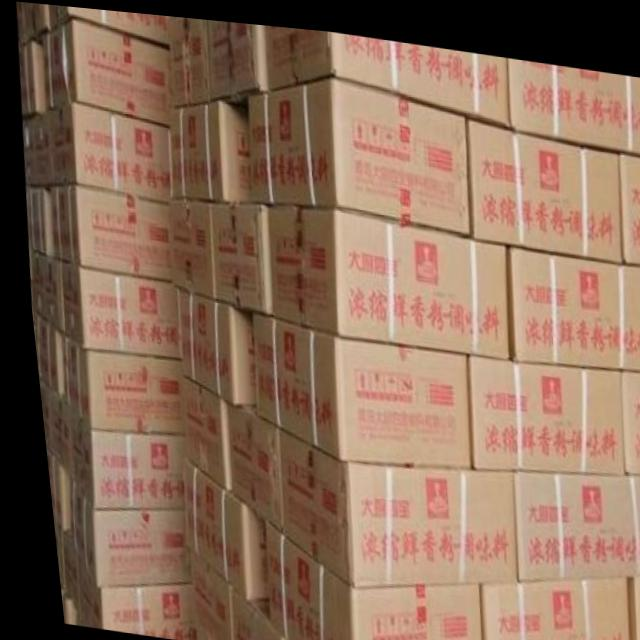box: (269, 424, 506, 580), (264, 201, 504, 350), (245, 71, 467, 226), (245, 309, 462, 460), (253, 513, 469, 640), (266, 20, 508, 117), (467, 110, 618, 254), (460, 346, 616, 466), (503, 237, 640, 359), (506, 461, 640, 573), (42, 15, 166, 123), (60, 474, 179, 586), (506, 50, 640, 142), (46, 101, 167, 199), (174, 457, 255, 599), (47, 184, 166, 278), (56, 337, 174, 430), (55, 264, 174, 356), (468, 567, 617, 640), (64, 415, 179, 507), (170, 286, 248, 405), (165, 97, 250, 197), (206, 197, 268, 310), (220, 404, 273, 526), (173, 373, 221, 488), (48, 4, 169, 45), (207, 16, 267, 96), (164, 197, 209, 295), (174, 547, 221, 640), (165, 13, 210, 104), (219, 586, 273, 640), (614, 358, 640, 464), (616, 142, 640, 252), (36, 446, 61, 532), (19, 41, 44, 118), (617, 565, 640, 640), (16, 1, 48, 41)
